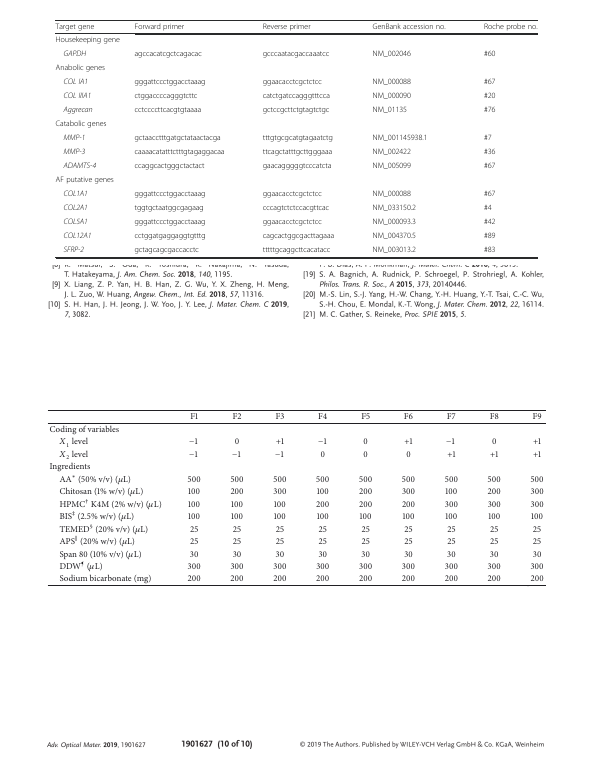borderless: (54, 18, 537, 257), (46, 408, 546, 585)
cell: (58, 495, 163, 512), (58, 521, 149, 537), (58, 484, 144, 499), (58, 546, 143, 561), (58, 533, 136, 549), (58, 508, 135, 524), (58, 471, 132, 487), (58, 574, 152, 585), (133, 147, 225, 157), (133, 133, 222, 143), (58, 558, 104, 574), (133, 77, 206, 87), (133, 189, 206, 199), (133, 217, 206, 227), (133, 231, 206, 241), (262, 231, 335, 241), (262, 133, 334, 143), (133, 161, 205, 171), (133, 203, 205, 213), (48, 425, 120, 435), (262, 147, 333, 157), (133, 49, 203, 59), (262, 161, 332, 171), (262, 91, 331, 101), (133, 105, 202, 115), (262, 245, 331, 255), (262, 49, 330, 59), (262, 105, 330, 115), (262, 203, 330, 213), (372, 22, 447, 31), (133, 245, 200, 255), (55, 35, 121, 45), (133, 91, 198, 101), (262, 77, 323, 87), (54, 175, 115, 185), (262, 189, 323, 199), (262, 217, 323, 227), (372, 133, 428, 143), (58, 446, 89, 463), (55, 119, 107, 129), (55, 63, 106, 73), (58, 434, 89, 450), (483, 22, 538, 31), (48, 462, 91, 473), (133, 22, 185, 31), (372, 203, 417, 213), (372, 217, 417, 227), (372, 231, 417, 241), (372, 245, 417, 255), (262, 22, 311, 31), (372, 49, 412, 59), (372, 77, 412, 87), (372, 91, 412, 101), (372, 147, 412, 157), (372, 161, 412, 171), (372, 189, 412, 199), (55, 22, 95, 31), (372, 105, 408, 115), (62, 161, 97, 170), (62, 105, 93, 115), (62, 91, 92, 101), (62, 77, 89, 87), (62, 231, 92, 240), (62, 49, 87, 59), (62, 189, 89, 198), (62, 203, 89, 212), (62, 217, 89, 226), (62, 133, 86, 142), (62, 147, 86, 156), (62, 245, 85, 254), (188, 446, 200, 462), (231, 446, 243, 462), (274, 446, 286, 462), (188, 434, 200, 449), (317, 434, 329, 449), (229, 487, 245, 498), (229, 574, 245, 585), (446, 434, 457, 449), (272, 487, 287, 498), (358, 487, 373, 498), (401, 487, 416, 498), (487, 487, 502, 498), (530, 487, 545, 498), (315, 499, 330, 510), (358, 499, 373, 510), (401, 499, 416, 510), (444, 499, 459, 510), (487, 499, 502, 510), (530, 499, 545, 510), (187, 574, 202, 585), (272, 574, 287, 585), (315, 574, 330, 585), (358, 574, 373, 585), (401, 574, 416, 585), (444, 574, 459, 585), (487, 574, 502, 585), (530, 574, 545, 585), (229, 475, 245, 485), (229, 562, 245, 572), (187, 487, 201, 498), (316, 487, 330, 498), (444, 487, 458, 498), (187, 499, 201, 510), (230, 499, 244, 510), (273, 499, 287, 510), (187, 512, 201, 523), (230, 512, 244, 523), (273, 512, 287, 523), (316, 512, 330, 523), (359, 512, 373, 523), (401, 512, 415, 523), (444, 512, 458, 523), (487, 512, 501, 523), (530, 512, 544, 523), (187, 475, 202, 485), (272, 475, 287, 485), (315, 475, 330, 485), (358, 475, 373, 485), (401, 475, 416, 485), (444, 475, 459, 485), (487, 475, 502, 485), (530, 475, 545, 485), (187, 562, 202, 572), (272, 562, 287, 572), (315, 562, 330, 572), (358, 562, 373, 572), (401, 562, 416, 572), (444, 562, 459, 572), (487, 562, 502, 572), (530, 562, 545, 572), (483, 49, 496, 59), (483, 77, 496, 87), (483, 91, 496, 101), (483, 105, 496, 115), (483, 147, 496, 157), (483, 161, 496, 171), (483, 189, 496, 199), (483, 217, 496, 227), (483, 231, 496, 241), (483, 245, 496, 255), (274, 412, 285, 423), (317, 412, 328, 423), (360, 412, 371, 423), (403, 412, 414, 423), (446, 412, 457, 423), (489, 412, 500, 423), (532, 412, 543, 423), (403, 437, 414, 448), (360, 524, 371, 535), (403, 524, 414, 535), (446, 524, 457, 535), (317, 549, 328, 560), (360, 549, 371, 560), (403, 549, 414, 560), (446, 549, 457, 560), (189, 412, 199, 423), (232, 412, 242, 423), (275, 437, 285, 448), (532, 437, 542, 448), (189, 524, 199, 535), (232, 524, 242, 535), (275, 524, 285, 535), (318, 524, 328, 535), (489, 524, 499, 535), (532, 524, 542, 535), (360, 537, 371, 547), (403, 537, 414, 547), (446, 537, 457, 547), (189, 549, 199, 560), (232, 549, 242, 560), (275, 549, 285, 560), (489, 549, 499, 560), (532, 549, 542, 560), (446, 450, 456, 460), (489, 450, 499, 460), (532, 450, 542, 460), (189, 537, 199, 547), (232, 537, 242, 547), (275, 537, 285, 547), (318, 537, 328, 547), (489, 537, 499, 547), (532, 537, 542, 547), (483, 133, 492, 143), (483, 203, 492, 213), (362, 437, 369, 448), (362, 450, 369, 460), (405, 450, 412, 460), (234, 437, 240, 448), (491, 437, 497, 448), (320, 450, 326, 460)
